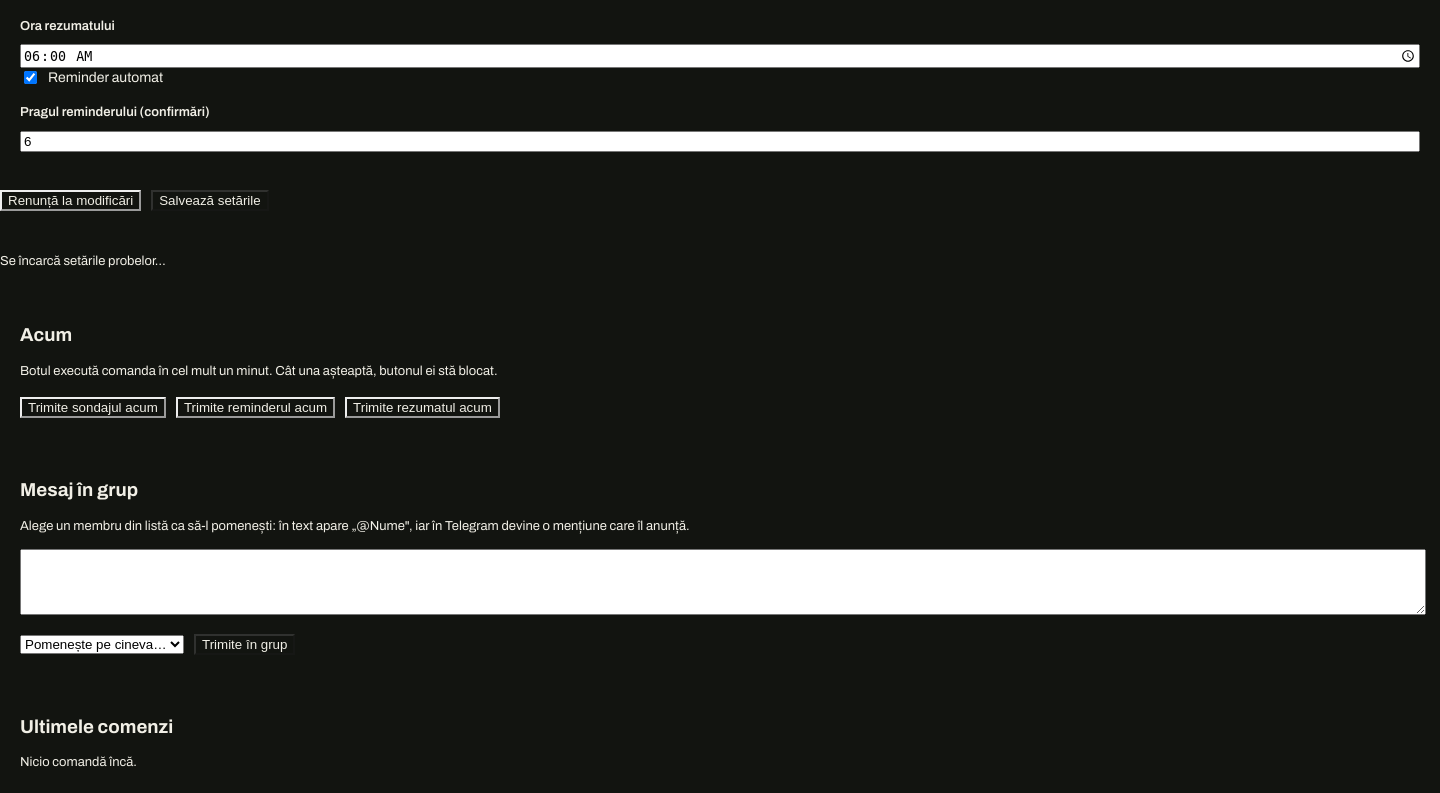
comenzile „acum" › dacă sondajul de mâine e deja în grup, confirmarea spune că pleacă unul nou
(page scrolled)
Click the button "Trimite sondajul acum": (93, 408) [20,398,166,418]
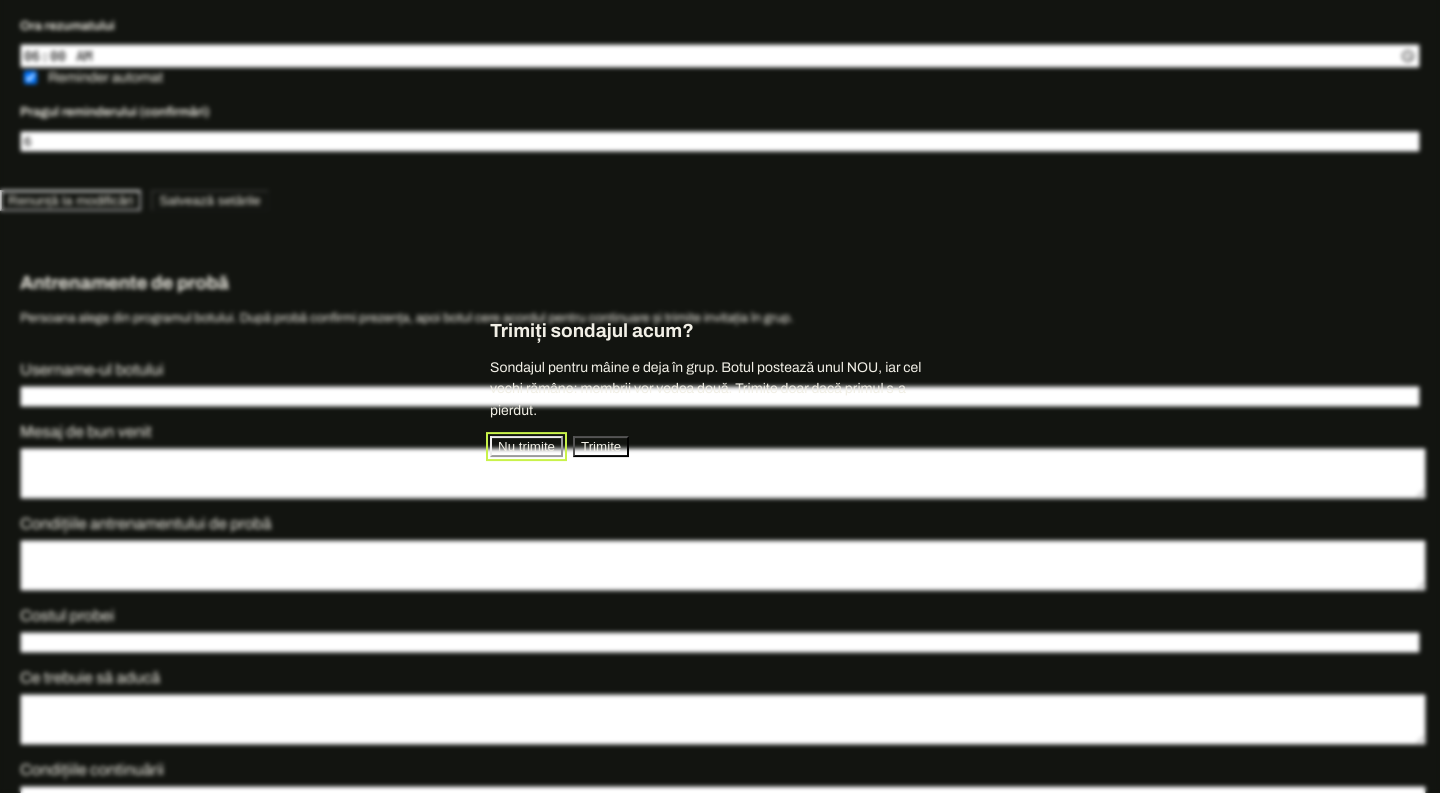
Check: the dialog shows "e deja în grup", box [490,360,921,418]
